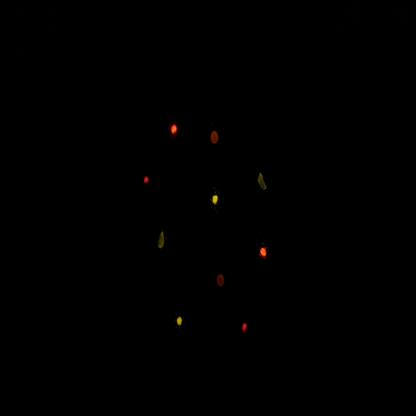PE: (208, 181, 224, 220), (172, 305, 188, 340)
PET: (136, 168, 157, 201), (239, 311, 252, 342)
PP: (152, 214, 175, 262), (253, 162, 274, 204)
PS: (210, 266, 230, 304), (207, 120, 224, 152)
PVC: (253, 234, 272, 270), (169, 117, 183, 144)
